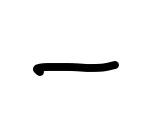minus: (33, 60, 119, 76)
